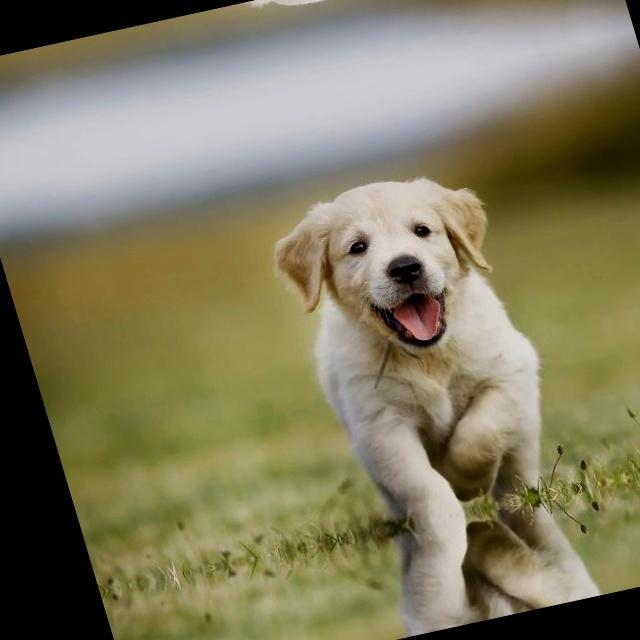dog: (246, 142, 595, 538), (348, 485, 627, 640), (192, 0, 447, 40)
